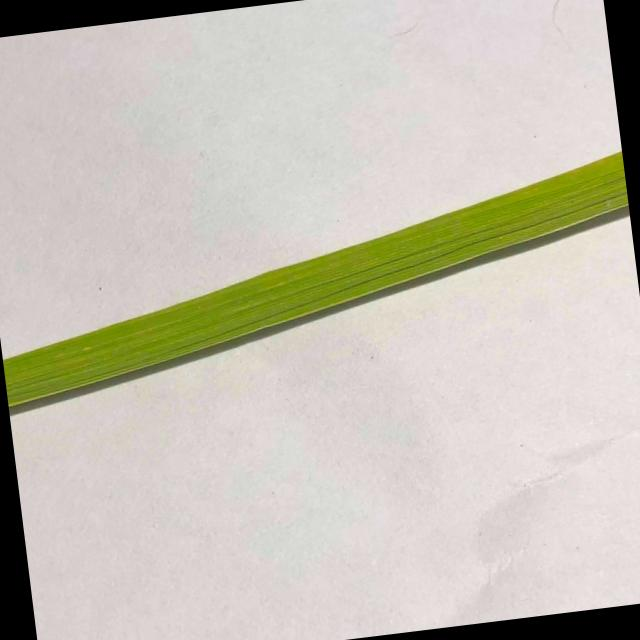Rice_Healthy: (4, 151, 628, 410)
